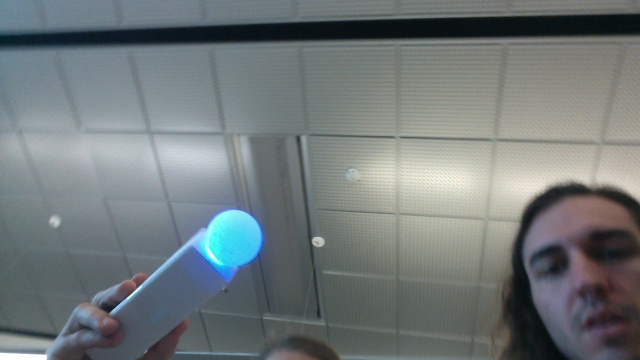wand: (206, 210, 263, 268)
